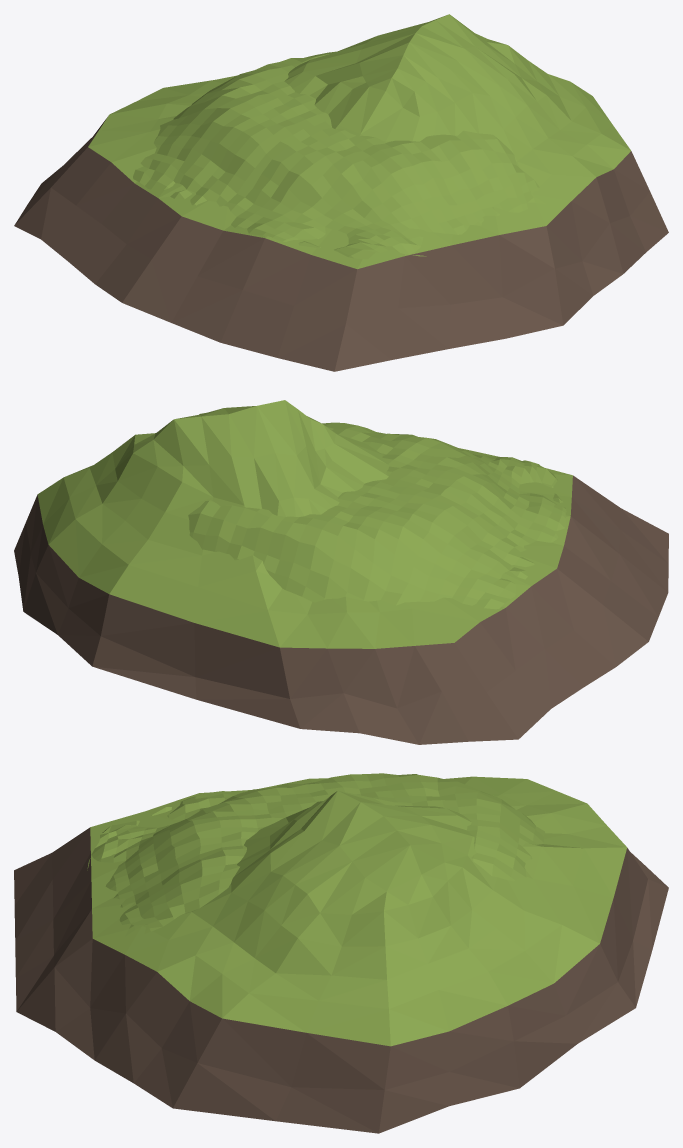
Rendered from island_02.fbx.
The picture shows the model from 3 angles, top to bottom: view 1: azimuth 30°, elevation 25°; view 2: azimuth 150°, elevation 25°; view 3: azimuth 270°, elevation 25°; orthographic projection. The views are drawn at different scales.
Visible parts, largest first — view 1: terrain_03.000; view 2: terrain_03.000; view 3: terrain_03.000.
Part boxes in pixels (x1=…): terrain_03.000: x1=14, y1=14, x2=668, y2=371; terrain_03.000: x1=14, y1=400, x2=668, y2=744; terrain_03.000: x1=14, y1=773, x2=668, y2=1133.
Bounding box in the file's own units: 3268 × 1058 × 2947.
